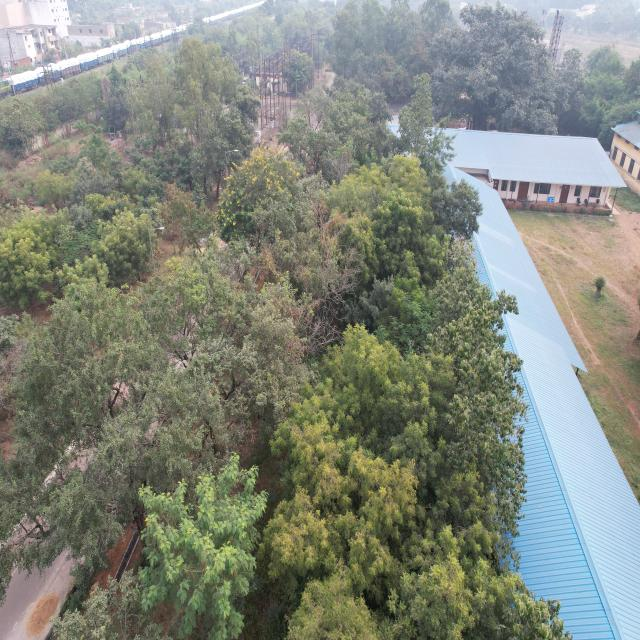Devakanchan tree: (23, 295, 249, 511)
Neem Tree: (295, 400, 458, 640), (344, 178, 429, 295)
